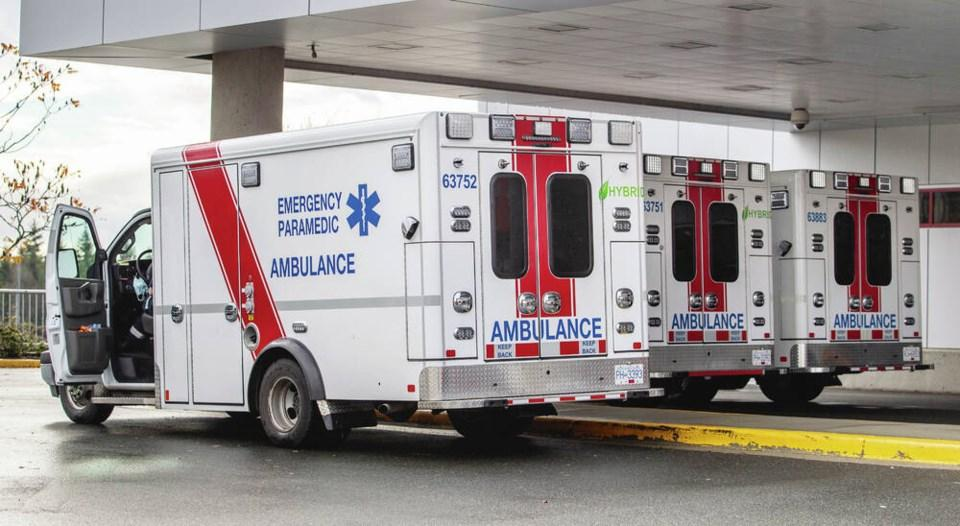ambulance_off: (41, 111, 648, 438), (773, 168, 934, 400), (645, 150, 778, 406)
